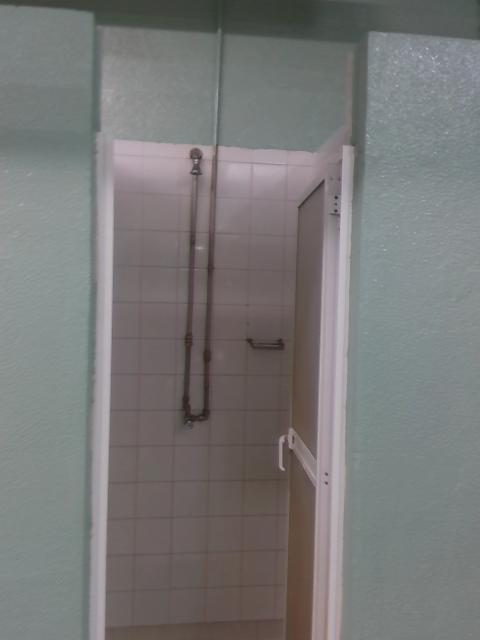open_door: (87, 131, 351, 638)
